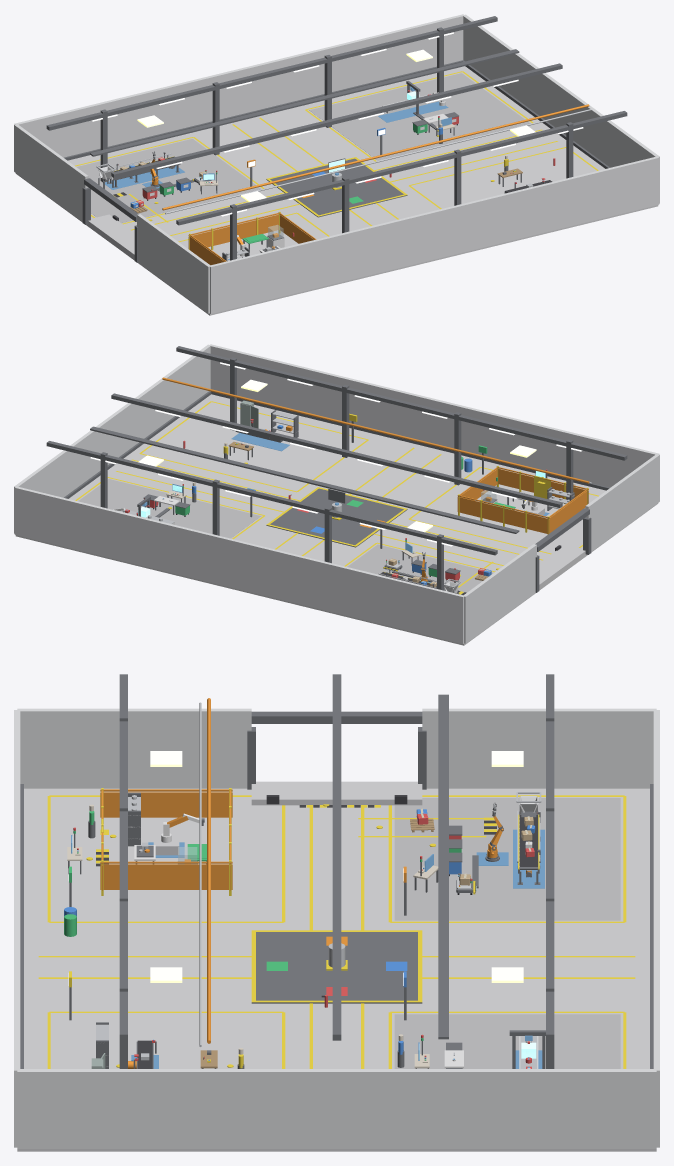
File: RoboTeachVR.glb
The picture shows the model from 3 angles, top to bottom: view 1: azimuth 30°, elevation 25°; view 2: azimuth 150°, elevation 25°; view 3: azimuth 270°, elevation 25°; orthographic projection. The views are drawn at different scales.
Parts seen in each view (by area): view 1: FloorSlab, Wall_South, Wall_North, FloorTint_Z2, Wall_East, FloorTint_Z1, Wall_West_B, Wall_West_A, PlazaBase, RoofBeam_0, RoofBeam_-10, RoofBeam_10 (+13 smaller); view 2: FloorSlab, Wall_North, Wall_South, Wall_East, Wall_West_A, Wall_West_B, FloorTint_Z2, PlazaBase, RoofBeam_0, RoofBeam_-10, RoofBeam_10, CableTray_Main (+12 smaller); view 3: FloorSlab, Wall_East, FloorTint_Z1, Wall_West_B, Wall_West_A, PlazaBase, FloorTint_Z2, CableTray_Main, DockPlatform, RoofBeam_0, RoofBeam_-10, RoofBeam_10 (+13 smaller).
Part boxes in pixels (x1=…): FloorSlab: x1=15, y1=66, x2=658, y2=315; Wall_South: x1=210, y1=156, x2=659, y2=313; Wall_North: x1=14, y1=14, x2=464, y2=157; FloorTint_Z2: x1=309, y1=73, x2=529, y2=160; Wall_East: x1=463, y1=14, x2=659, y2=203; FloorTint_Z1: x1=76, y1=139, x2=260, y2=222; Wall_West_B: x1=137, y1=214, x2=210, y2=313; Wall_West_A: x1=14, y1=124, x2=88, y2=221; PlazaBase: x1=266, y1=158, x2=407, y2=217; RoofBeam_0: x1=111, y1=63, x2=562, y2=177; RoofBeam_-10: x1=46, y1=16, x2=497, y2=130; RoofBeam_10: x1=176, y1=111, x2=627, y2=225; FloorSlab: x1=15, y1=394, x2=658, y2=645; Wall_North: x1=14, y1=486, x2=463, y2=643; Wall_South: x1=209, y1=344, x2=659, y2=487; Wall_East: x1=14, y1=344, x2=210, y2=533; Wall_West_A: x1=463, y1=544, x2=536, y2=643; Wall_West_B: x1=585, y1=454, x2=659, y2=551; FloorTint_Z2: x1=78, y1=479, x2=260, y2=538; PlazaBase: x1=266, y1=488, x2=407, y2=547; RoofBeam_0: x1=111, y1=393, x2=562, y2=507; RoofBeam_-10: x1=46, y1=441, x2=497, y2=555; RoofBeam_10: x1=176, y1=346, x2=627, y2=460; CableTray_Main: x1=90, y1=426, x2=519, y2=533; FloorSlab: x1=17, y1=788, x2=656, y2=1151; Wall_East: x1=17, y1=1069, x2=656, y2=1148; FloorTint_Z1: x1=394, y1=798, x2=620, y2=920; Wall_West_B: x1=17, y1=708, x2=251, y2=788; Wall_West_A: x1=422, y1=708, x2=656, y2=788; PlazaBase: x1=251, y1=932, x2=422, y2=1003; FloorTint_Z2: x1=394, y1=1014, x2=620, y2=1068; CableTray_Main: x1=438, y1=694, x2=448, y2=1039; DockPlatform: x1=251, y1=781, x2=422, y2=805; RoofBeam_0: x1=332, y1=674, x2=341, y2=1040; RoofBeam_-10: x1=546, y1=674, x2=554, y2=1040; RoofBeam_10: x1=119, y1=674, x2=127, y2=1040.
Size of the model in its own units: 40.4 by 6.2 by 30.3.
